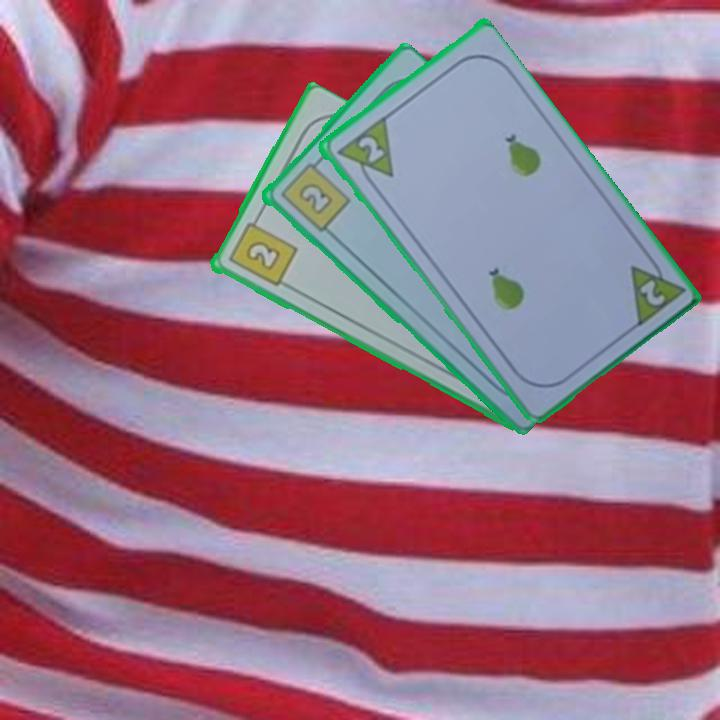2b: (276, 154, 353, 235), (224, 211, 299, 290)
2p: (353, 132, 387, 166), (635, 276, 668, 309)
